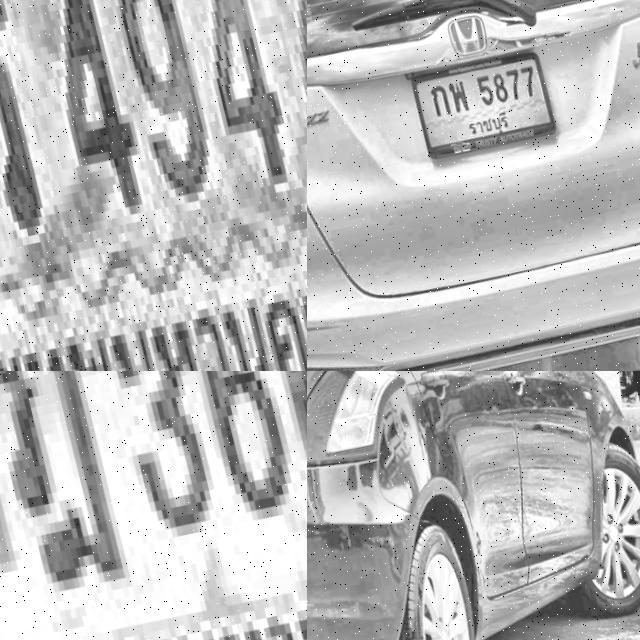license-plate: (0, 0, 307, 371), (0, 371, 307, 640), (404, 39, 556, 161)
